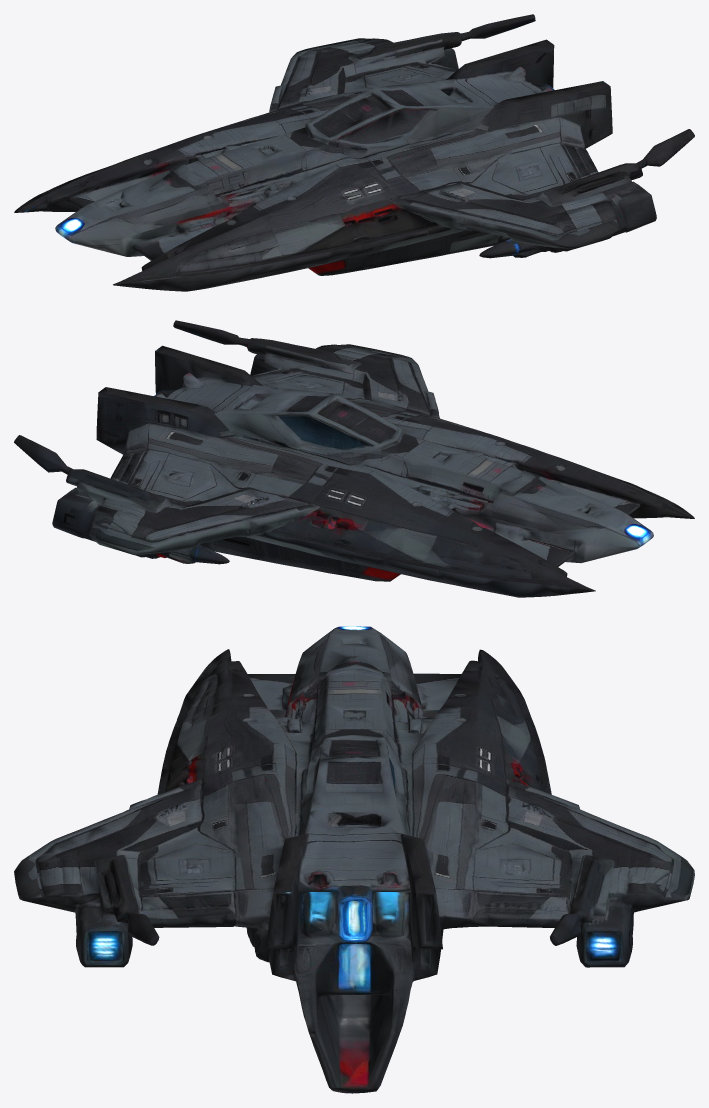
Rendered from ripwing.glb.
The picture shows the model from 3 angles, top to bottom: view 1: azimuth 30°, elevation 25°; view 2: azimuth 150°, elevation 25°; view 3: azimuth 270°, elevation 25°; orthographic projection. The views are drawn at different scales.
Bounding box in the file's own units: 14 × 4.11 × 11.76.
Materials: 1 (1 with a texture image).
